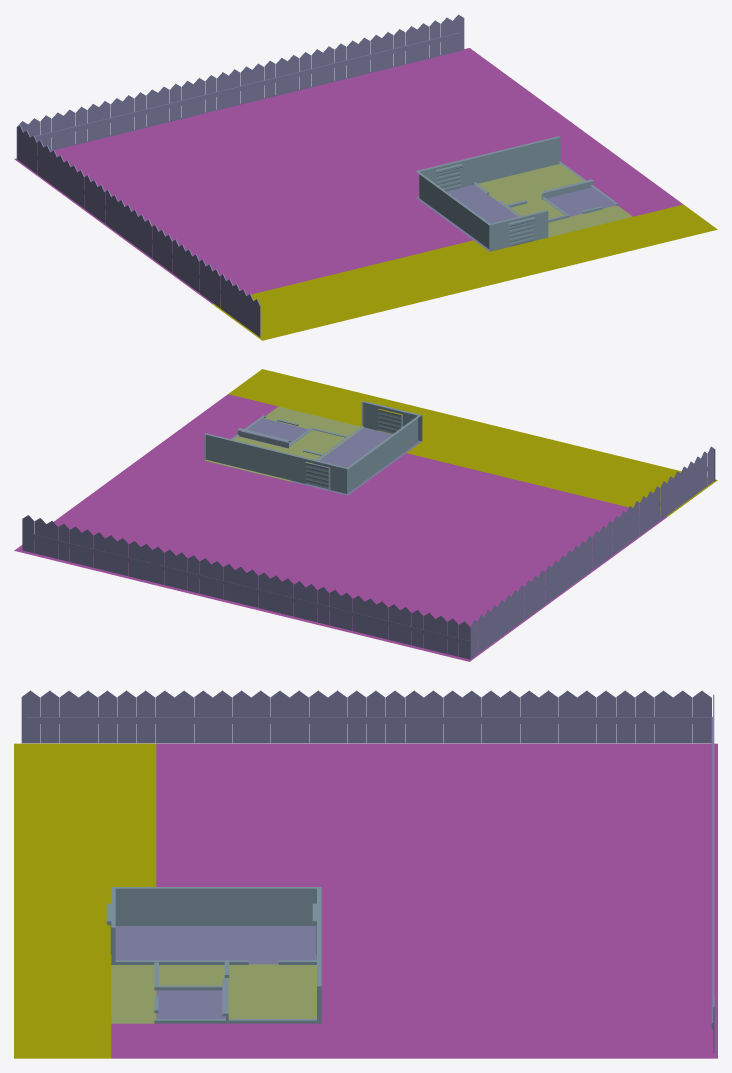
The model's file is Sklad_location.fbx.
The picture shows the model from 3 angles, top to bottom: view 1: azimuth 30°, elevation 25°; view 2: azimuth 150°, elevation 25°; view 3: azimuth 270°, elevation 25°; orthographic projection. The views are drawn at different scales.
Visible parts, largest first — view 1: Fence_4; view 2: Fence_4, Door_2_2; view 3: Fence_4.
Boxes of the visible parts, x1=… form: Fence_4: x1=14, y1=14, x2=717, y2=340; Fence_4: x1=14, y1=369, x2=717, y2=661; Door_2_2: x1=306, y1=463, x2=328, y2=489; Fence_4: x1=14, y1=690, x2=717, y2=1058.
Bounding box in the file's own units: 60.59 × 4.8 × 57.2.
